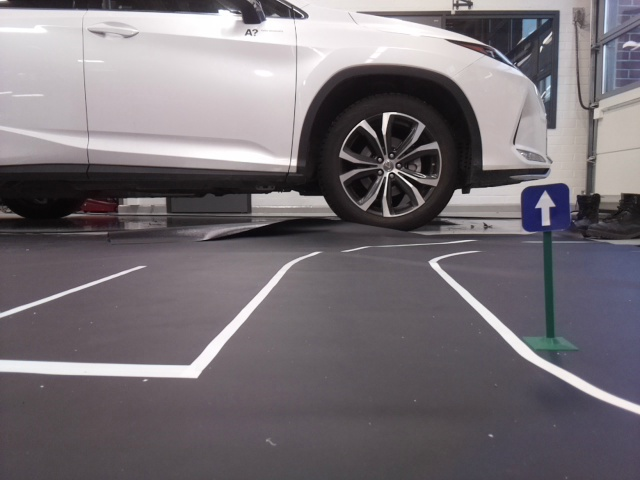OneWay: (520, 186, 569, 227)
